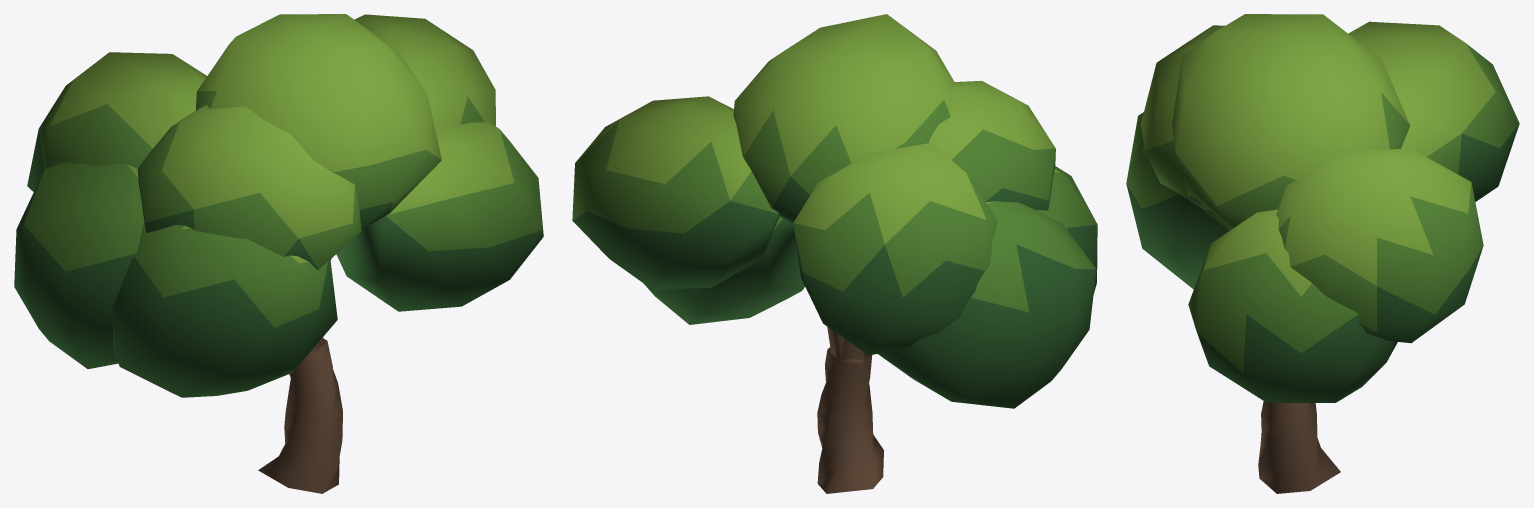
File: OakA_LOD.glb
3 renders of one model, left to right at view 1: azimuth 30°, elevation 25°; view 2: azimuth 150°, elevation 25°; view 3: azimuth 270°, elevation 25°, orthographic. The views are drawn at different scales.
Parts seen in each view (by area): view 1: OakA_LOD.leafLight, OakA_LOD.leafMid, OakA_LOD.leafDark, OakA_LOD.bark; view 2: OakA_LOD.leafDark, OakA_LOD.leafLight, OakA_LOD.leafMid, OakA_LOD.bark; view 3: OakA_LOD.leafLight, OakA_LOD.leafMid, OakA_LOD.leafDark, OakA_LOD.bark.
Boxes of the visible parts, bbox=[...] form: OakA_LOD.leafLight: bbox=[50, 14, 514, 263]; OakA_LOD.leafMid: bbox=[19, 81, 543, 327]; OakA_LOD.leafDark: bbox=[14, 129, 543, 397]; OakA_LOD.bark: bbox=[258, 258, 342, 493]; OakA_LOD.leafDark: bbox=[572, 150, 1097, 408]; OakA_LOD.leafLight: bbox=[576, 14, 1059, 244]; OakA_LOD.leafMid: bbox=[572, 99, 1097, 312]; OakA_LOD.bark: bbox=[817, 327, 883, 493]; OakA_LOD.leafLight: bbox=[1141, 14, 1495, 296]; OakA_LOD.leafMid: bbox=[1126, 43, 1519, 372]; OakA_LOD.leafDark: bbox=[1126, 124, 1519, 402]; OakA_LOD.bark: bbox=[1258, 401, 1340, 493].
Bounding box in the file's own units: 22.28 × 19.91 × 15.76.
